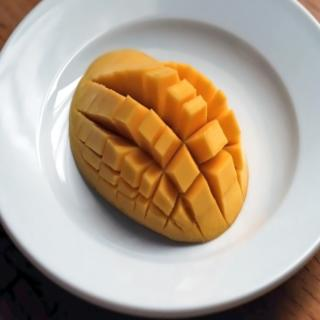Mango: (85, 57, 234, 230)
